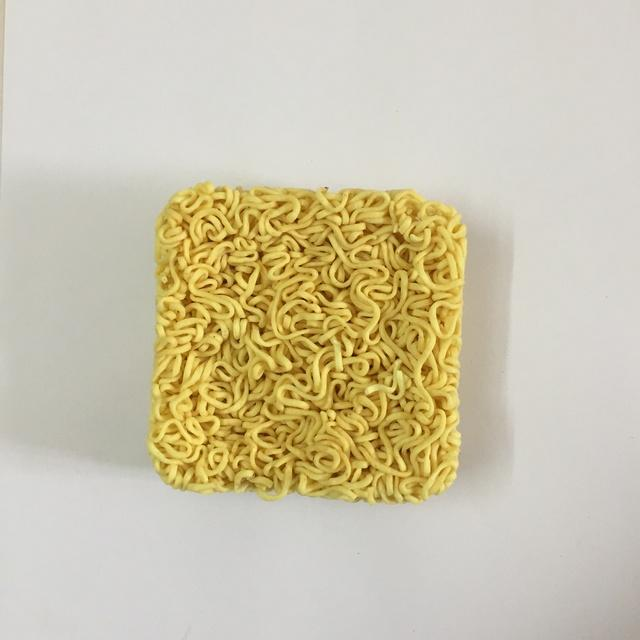noodles: (140, 173, 473, 513)
